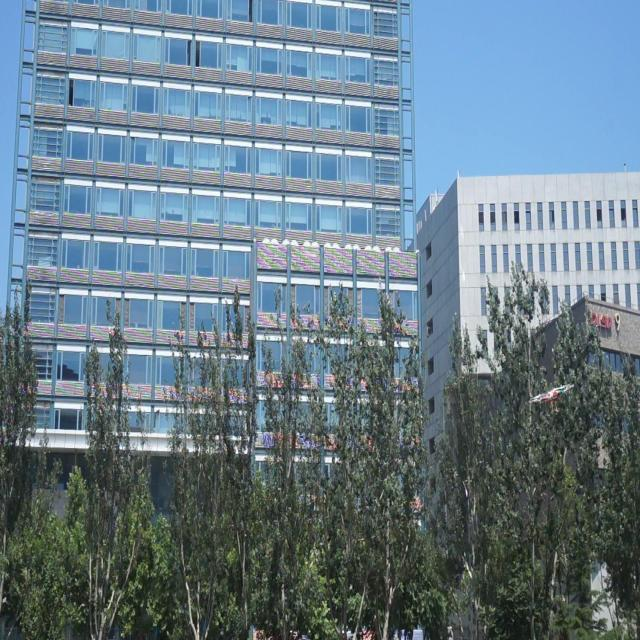drone: (528, 375, 576, 415)
